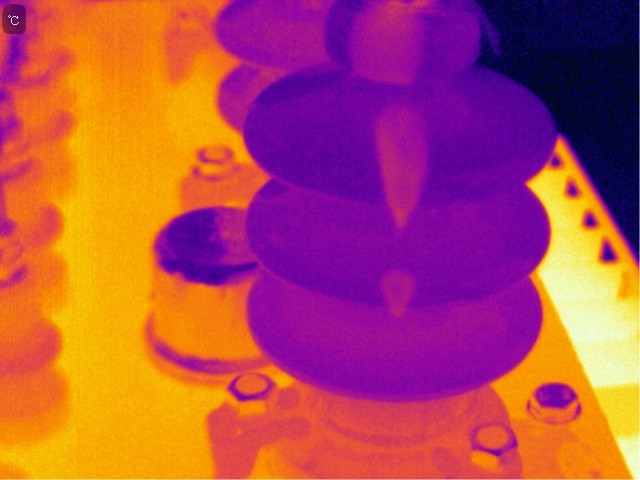Oil: (366, 103, 434, 232), (357, 1, 426, 86), (374, 266, 416, 317)
